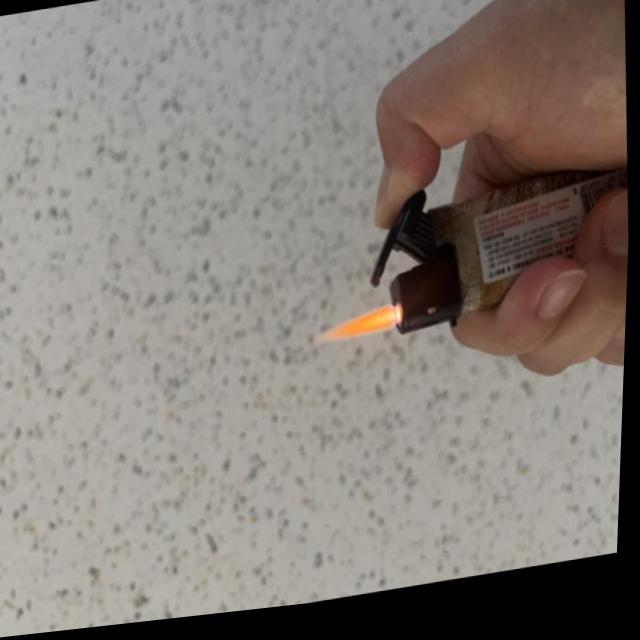Fire: (321, 310, 396, 352)
